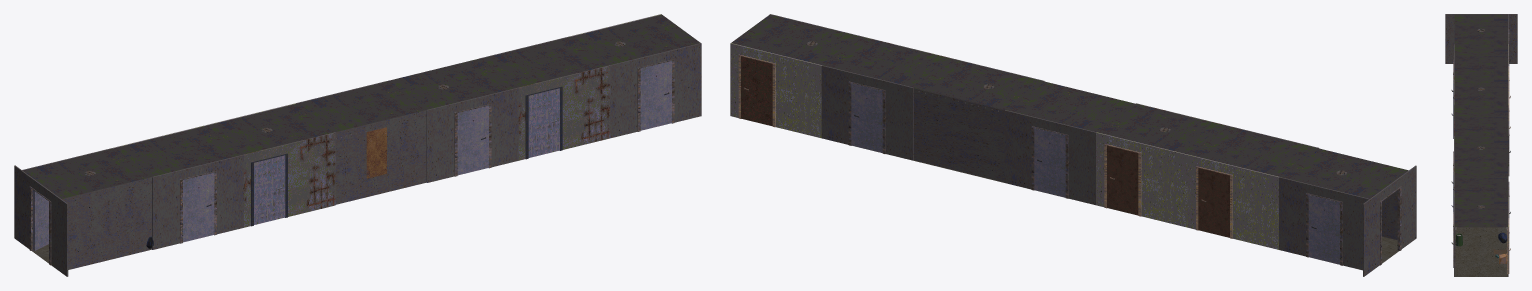
The model's file is Hallway.fbx.
3 renders of one model, left to right at view 1: azimuth 30°, elevation 25°; view 2: azimuth 150°, elevation 25°; view 3: azimuth 270°, elevation 25°, orthographic. The views are drawn at different scales.
Visible parts, largest first — view 1: Ceiling.001, Walls, Wall1, WallDoor1.002, WallDoor.002, WallDoor1.001, WallDoor.003, WallDoor.006, WallForDoor.001, Door.004, Door.009, Door.007 (+4 smaller); view 2: Ceiling.001, Walls.005, WallDoor.004, WallDoor.001, WallDoor2.001, WallDoor2.003, WallDoor2.002, WallDoor.005, WallForDoor.001, Door.006, Door.010, Door.008 (+5 smaller); view 3: Ceiling.001, Floors, WallForDoor.001, WallDoor2.001, WallDoor.003, WallDoor.001, WallDoor1.001, LittleLamp1.001, TrashCanCilender.001, CarboardBox2.001, WallDoor.005, WallDoor.004 (+5 smaller).
Part boxes in pixels (bbox=[...]): Ceiling.001: bbox=[23, 14, 700, 198]; Walls: bbox=[62, 177, 151, 269]; Wall1: bbox=[335, 110, 426, 204]; WallDoor1.002: bbox=[518, 65, 610, 160]; WallDoor.002: bbox=[426, 87, 518, 182]; WallDoor1.001: bbox=[244, 132, 335, 227]; WallDoor.003: bbox=[610, 43, 701, 138]; WallDoor.006: bbox=[152, 154, 243, 249]; WallForDoor.001: bbox=[14, 165, 68, 276]; Door.004: bbox=[254, 155, 285, 224]; Door.009: bbox=[640, 61, 671, 130]; Door.007: bbox=[457, 105, 488, 175]; Ceiling.001: bbox=[731, 14, 1408, 198]; Walls.005: bbox=[913, 87, 1004, 182]; WallDoor.004: bbox=[821, 65, 913, 160]; WallDoor.001: bbox=[1004, 110, 1096, 205]; WallDoor2.001: bbox=[730, 43, 821, 138]; WallDoor2.003: bbox=[1187, 154, 1278, 249]; WallDoor2.002: bbox=[1096, 132, 1187, 227]; WallDoor.005: bbox=[1279, 177, 1370, 271]; WallForDoor.001: bbox=[1363, 165, 1416, 276]; Door.006: bbox=[1034, 128, 1065, 197]; Door.010: bbox=[851, 83, 882, 152]; Door.008: bbox=[741, 56, 772, 125]; Ceiling.001: bbox=[1454, 14, 1508, 227]; Floors: bbox=[1454, 227, 1507, 276]; WallForDoor.001: bbox=[1445, 14, 1517, 63]; WallDoor2.001: bbox=[1507, 197, 1509, 276]; WallDoor.003: bbox=[1453, 197, 1455, 276]; WallDoor.001: bbox=[1508, 105, 1509, 175]; WallDoor1.001: bbox=[1453, 75, 1454, 138]; LittleLamp1.001: bbox=[1477, 28, 1484, 208]; TrashCanCilender.001: bbox=[1455, 233, 1462, 246]; CarboardBox2.001: bbox=[1499, 253, 1507, 263]; WallDoor.005: bbox=[1508, 14, 1509, 65]; WallDoor.004: bbox=[1508, 166, 1509, 217].
Bounding box in the file's own units: 2501 × 276 × 357.
